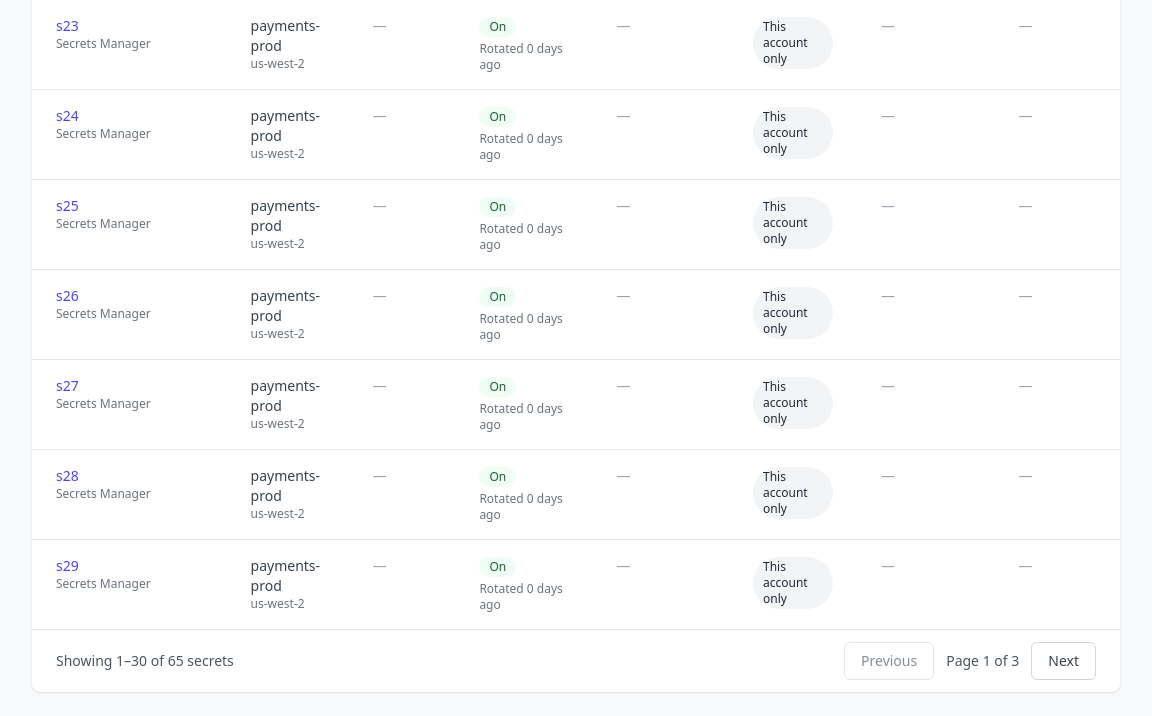
Test case: SecretsPage › shows 30 secrets a page, steps through pages, and starts over on a new filter
(page scrolled)
Expected: the text "Showing 1–30 of 65 secrets" is shown, [56, 651, 234, 671]
Expected: the text "Page 1 of 3" is shown, [946, 651, 1019, 671]
Click the button "Next" at [1064, 661], box [1031, 642, 1096, 680]
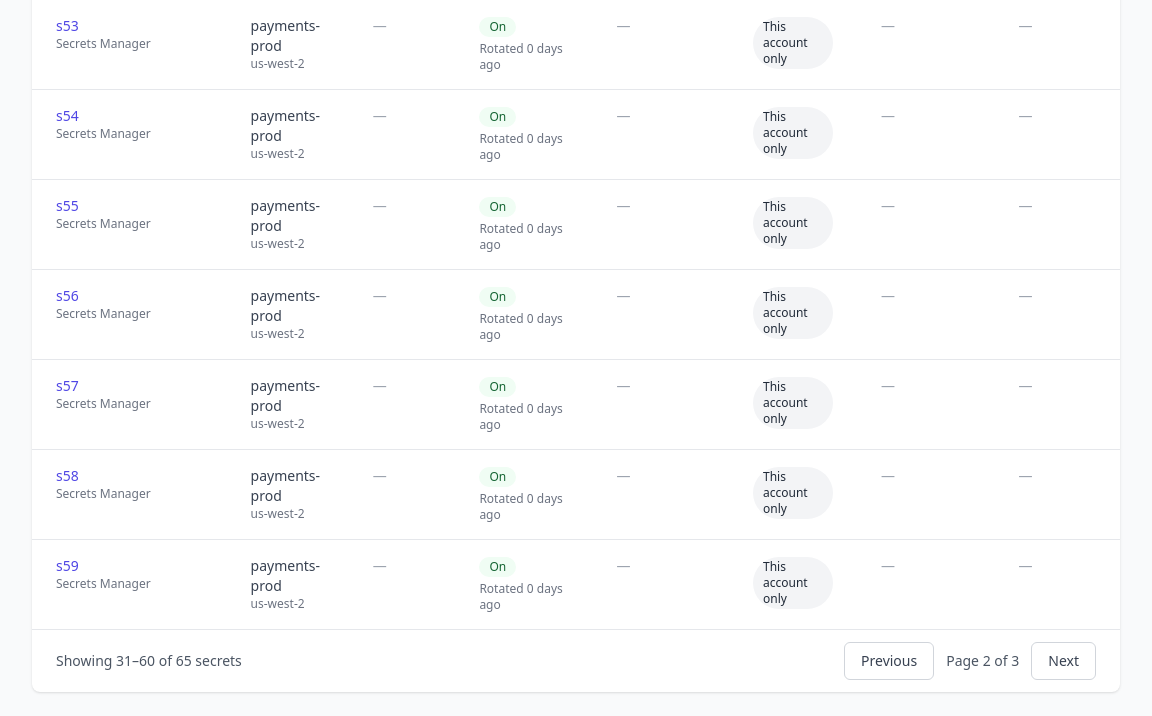
Expected: the text "Showing 31–60 of 65 secrets" is shown, [56, 651, 242, 671]
Click the button "Next" at [1064, 661], box [1031, 642, 1096, 680]
(page scrolled)
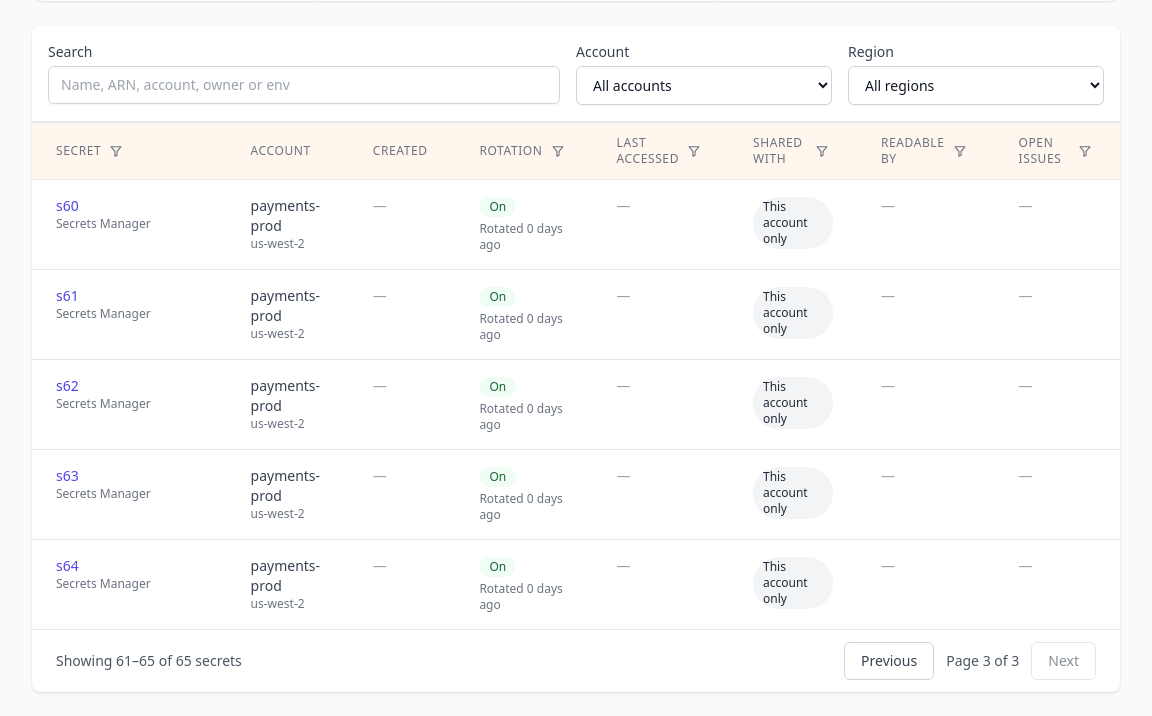
Expected: the text "Showing 61–65 of 65 secrets" is shown, [56, 651, 242, 671]
Expected: the button "Next" is disabled, [1031, 642, 1096, 680]
Type "s0" into the search field labelled "Search" at [304, 85], box [48, 66, 560, 104]
(page scrolled)
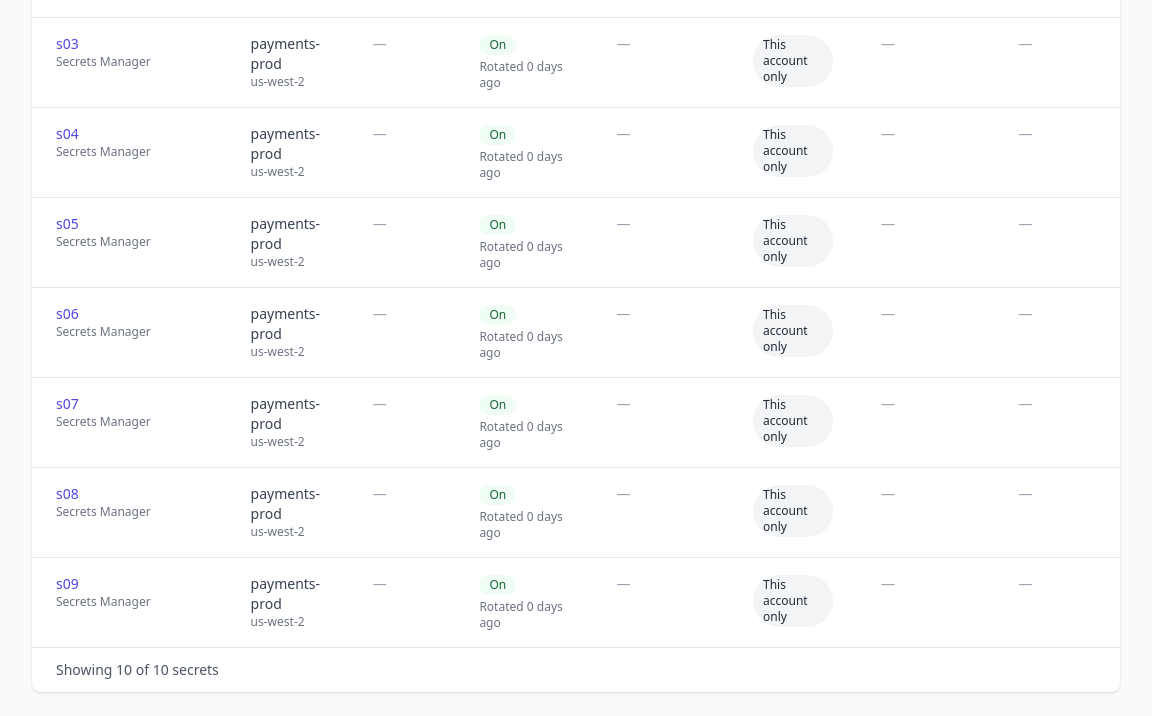
Expected: the text "Showing 10 of 10 secrets" is shown, [56, 660, 219, 680]
Expected: the text "Page 3 of 3" is gone
